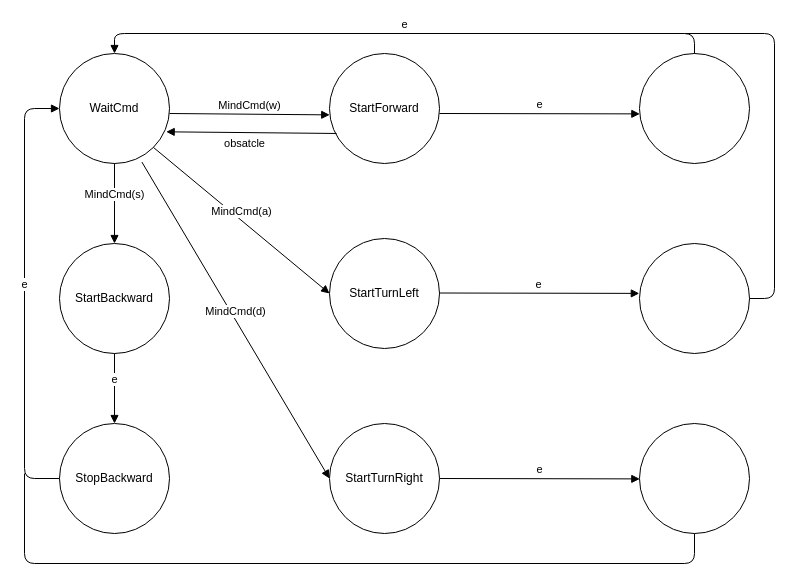
Some shapes in this 793 by 582 pixel diagram are drawn without their labels. Here are the shapes that lost their labels. From the top down, the box of each, then its label:
(638, 52, 750, 164): StopForward
(638, 242, 750, 354): StopTurnLeft
(638, 422, 750, 534): StopTurnRight
